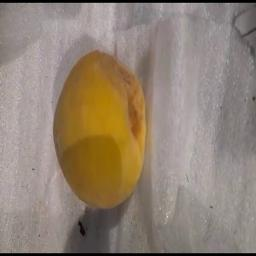Peach Rotten: (50, 45, 152, 212)
